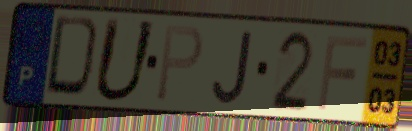2: (270, 27, 318, 114)
D: (42, 13, 106, 103)
F: (314, 32, 370, 113)
J: (210, 28, 256, 107)
P: (153, 23, 206, 105)
U: (89, 15, 160, 106)
